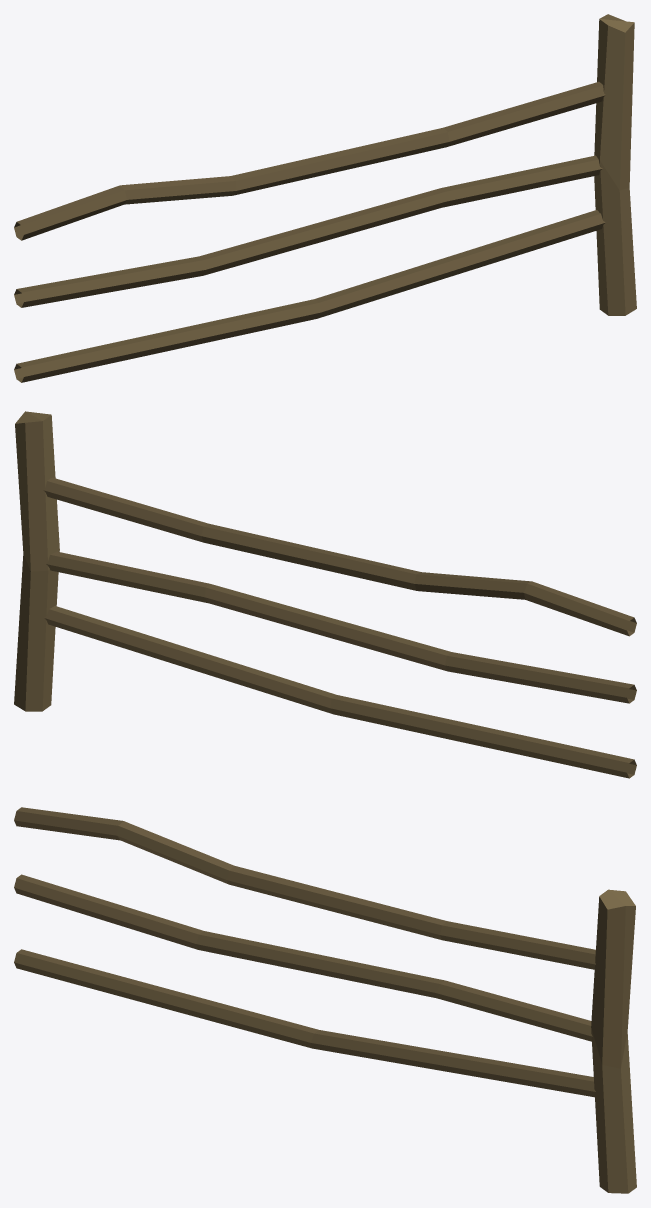
File: Fence_2.fbx
3 renders of one model, top to bottom at view 1: azimuth 30°, elevation 25°; view 2: azimuth 150°, elevation 25°; view 3: azimuth 330°, elevation 25°, orthographic.
Parts seen in each view (by area): view 1: Fence_2; view 2: Fence_2; view 3: Fence_2.
Part boxes in pixels (bbox=[...]): Fence_2: bbox=[14, 14, 636, 382]; Fence_2: bbox=[14, 411, 636, 778]; Fence_2: bbox=[14, 807, 636, 1193].
Bounding box in the file's own units: 234 × 106 × 11.77.
